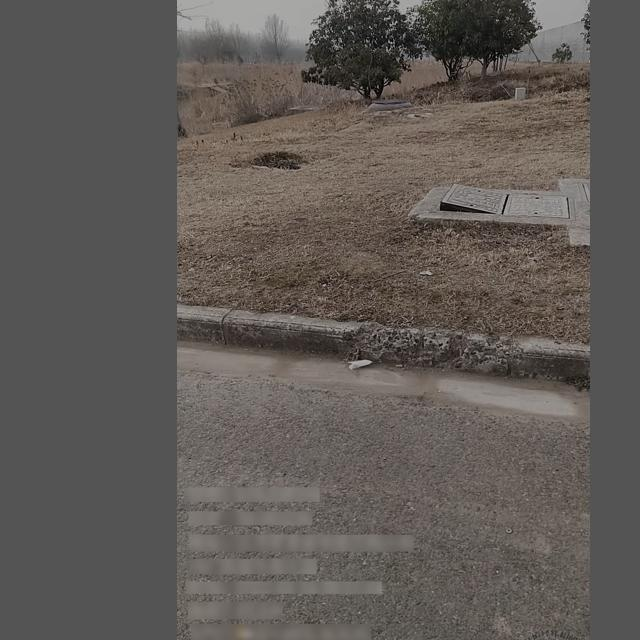uncovered: (429, 180, 570, 220)
